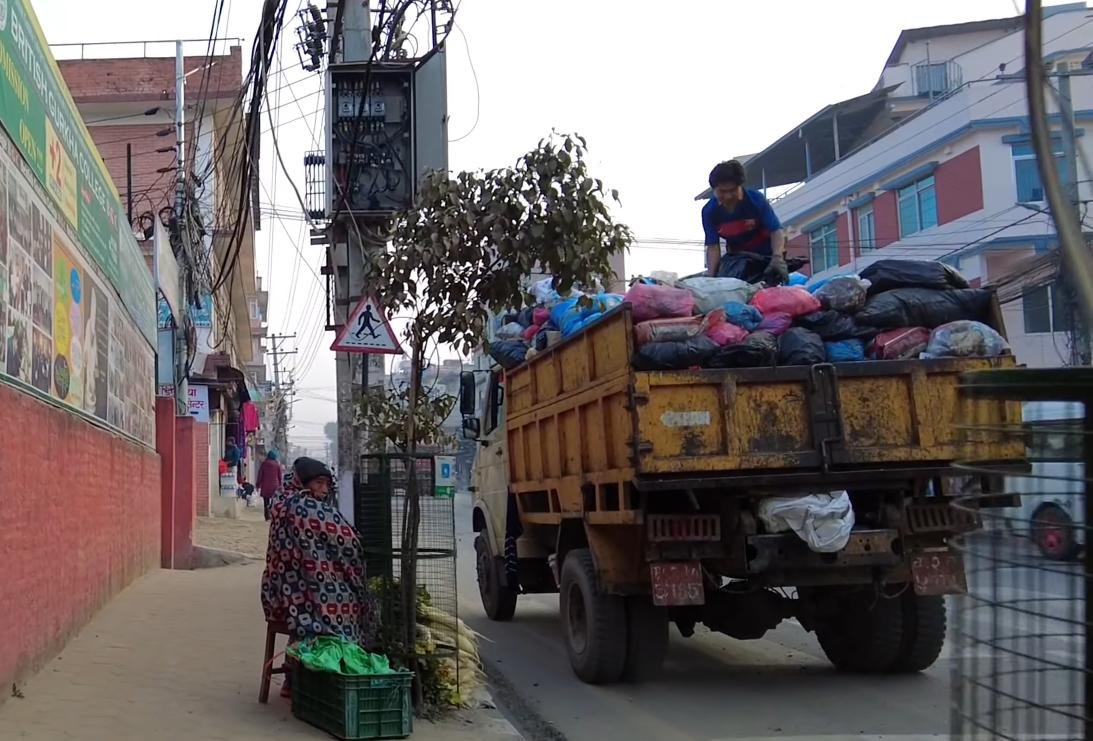mini_truck: (443, 253, 1026, 694)
